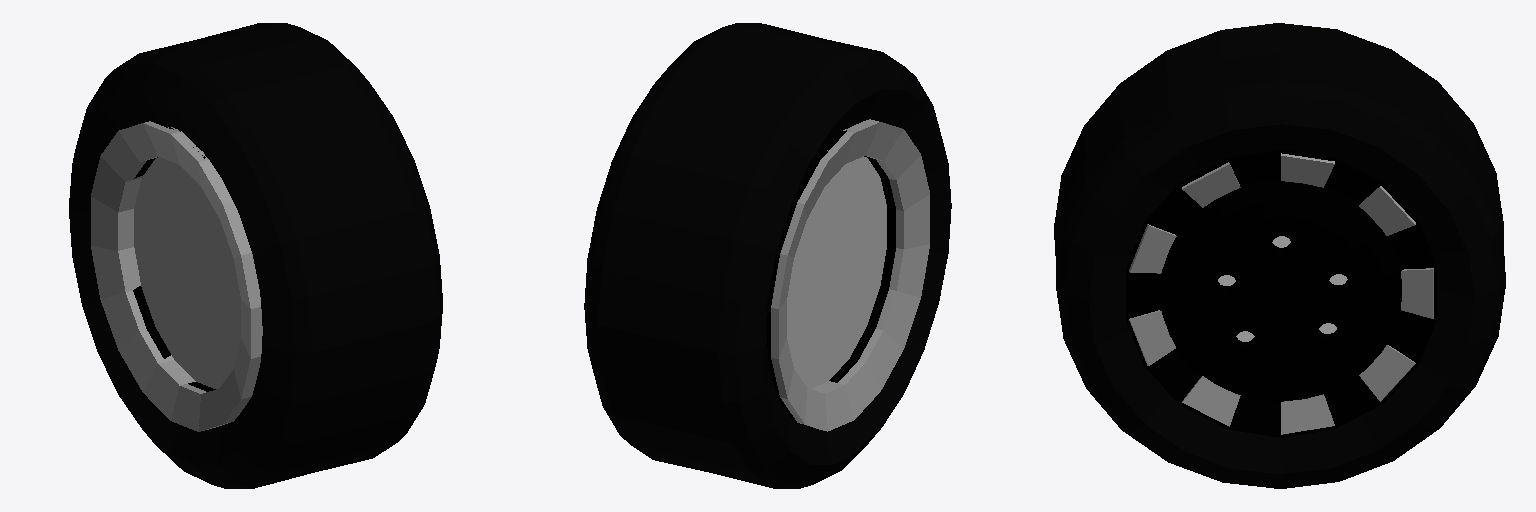
The model's file is Llanta1.obj.
3 views of the same model, side by side, from view 1: azimuth 30°, elevation 25°; view 2: azimuth 150°, elevation 25°; view 3: azimuth 270°, elevation 25° (orthographic).
Parts seen in each view (by area): view 1: Llanta1; view 2: Llanta1; view 3: Llanta1.
Boxes of the visible parts, box(x1,y1,x2,y2) form: Llanta1: box(69, 23, 442, 488); Llanta1: box(584, 23, 951, 488); Llanta1: box(1054, 23, 1505, 488).
Size of the model in its own units: 2.25 by 4.8 by 4.82.